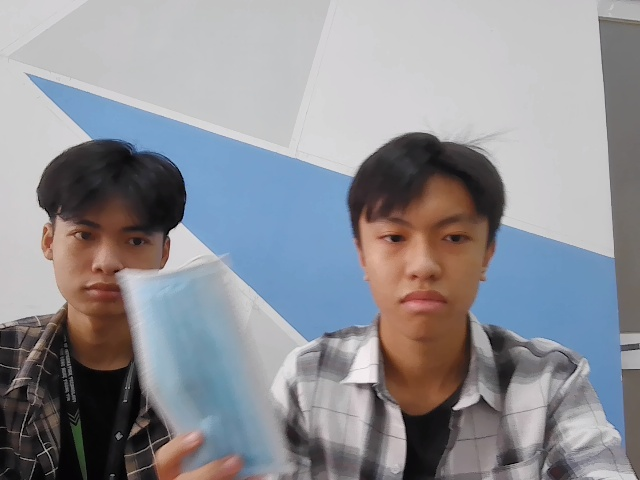human: (352, 134, 508, 337), (37, 139, 187, 318)
mask: (119, 257, 295, 478)
